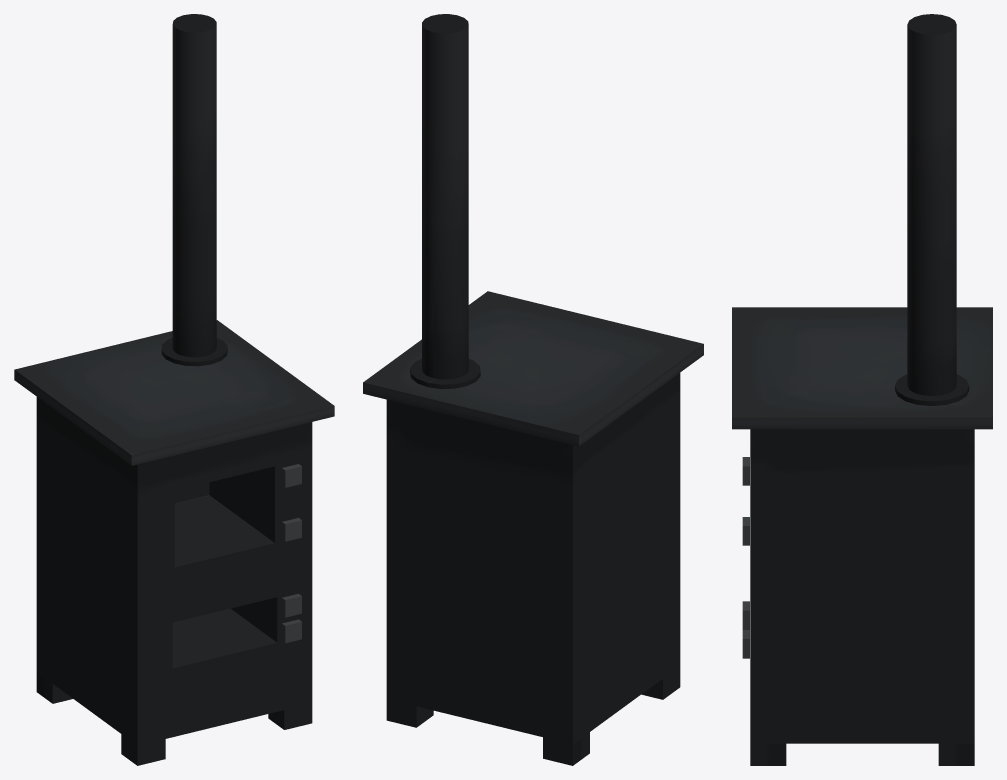
File: prop_kamiina.gltf
3 renders of one model, left to right at view 1: azimuth 30°, elevation 25°; view 2: azimuth 150°, elevation 25°; view 3: azimuth 270°, elevation 25°, orthographic. The views are drawn at different scales.
Parts seen in each view (by area): view 1: kamiina; view 2: kamiina; view 3: kamiina.
Boxes of the visible parts, <box> form: kamiina: <box>14,14,334,765</box>; kamiina: <box>363,14,703,765</box>; kamiina: <box>732,14,992,765</box>.
Bounding box in the file's own units: 4.51 × 13.78 × 4.51.
Materials: 1 (1 with a texture image).
